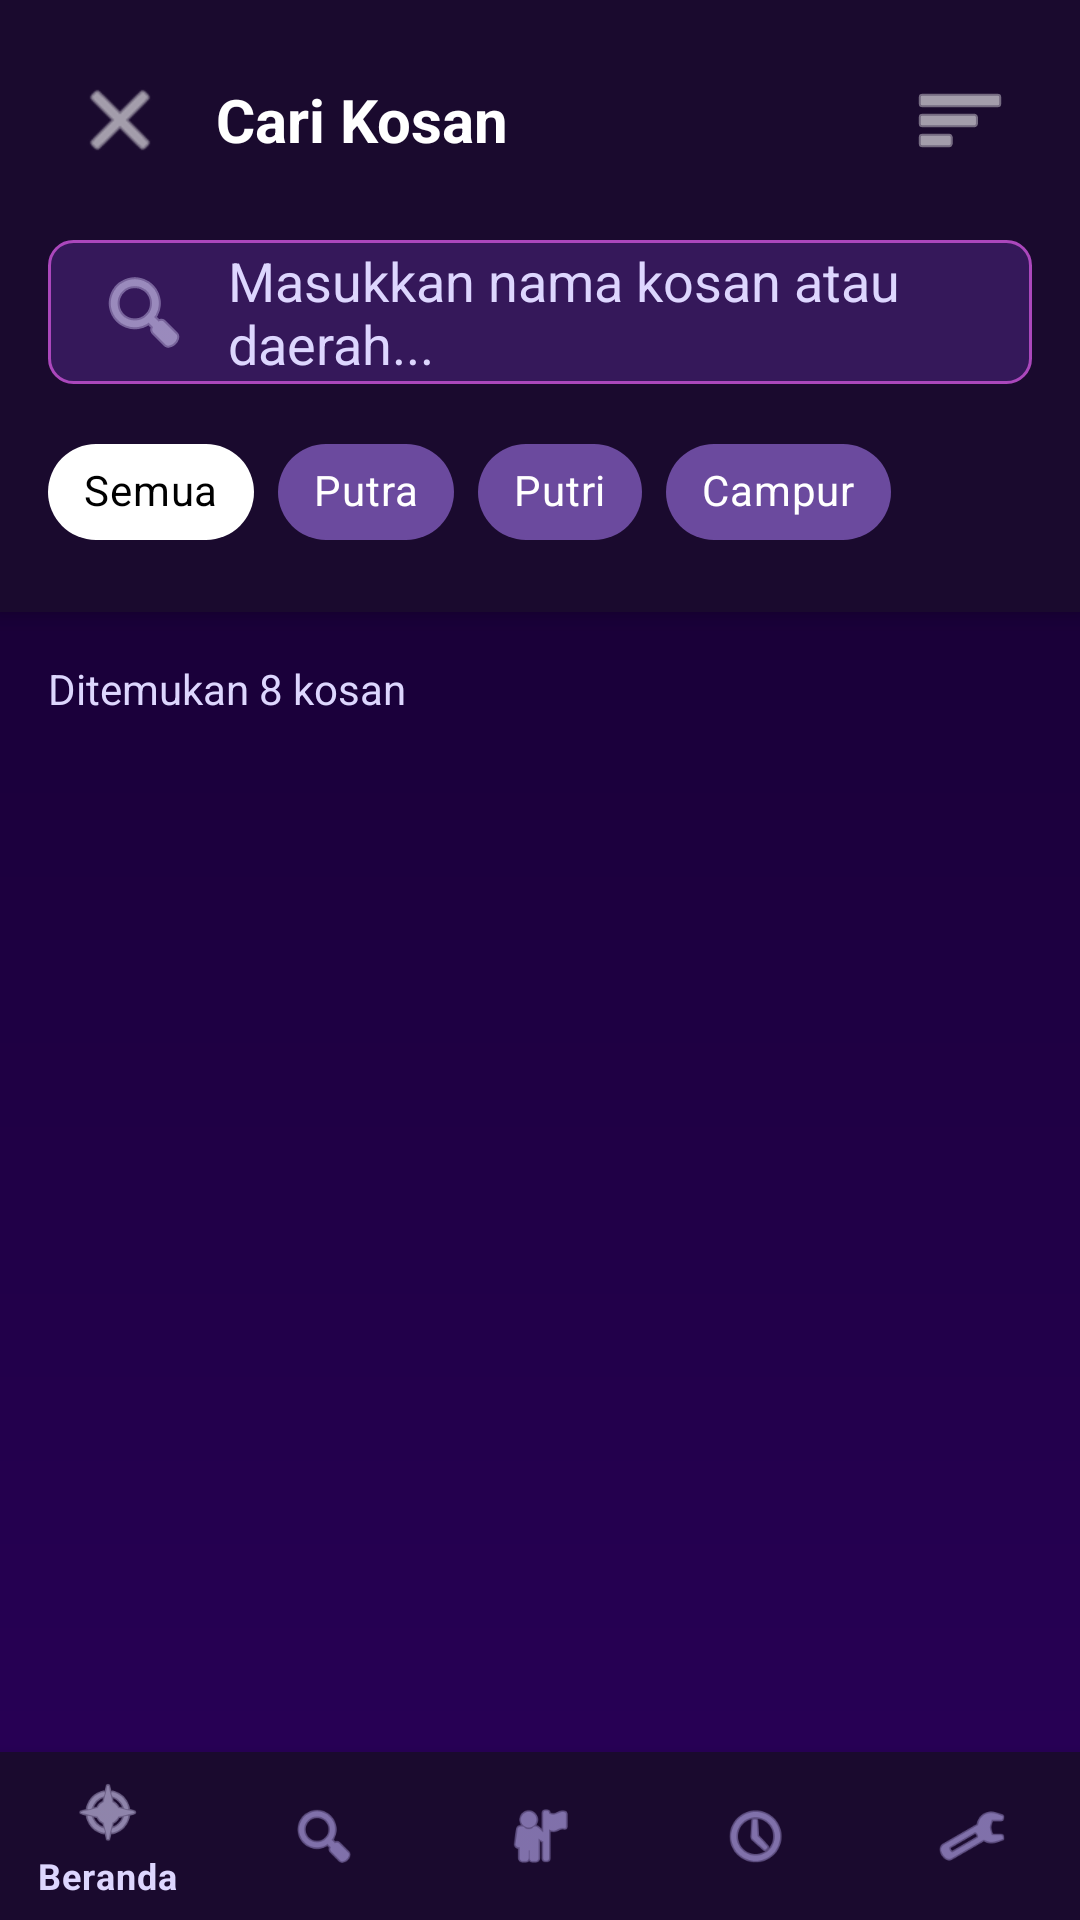

Screen size 1080 x 1920. Icon name, then its box in pixels as (x1, y1, x2, y2):
Buka Filter: (919, 94, 1001, 147)
